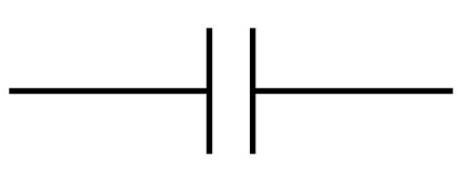Capacitor: (165, 22, 288, 162)
